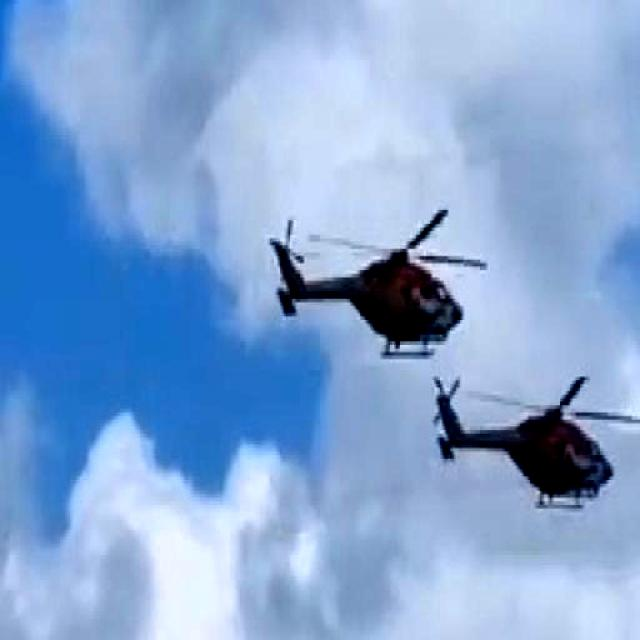drone: (268, 179, 505, 379), (424, 355, 640, 540)
